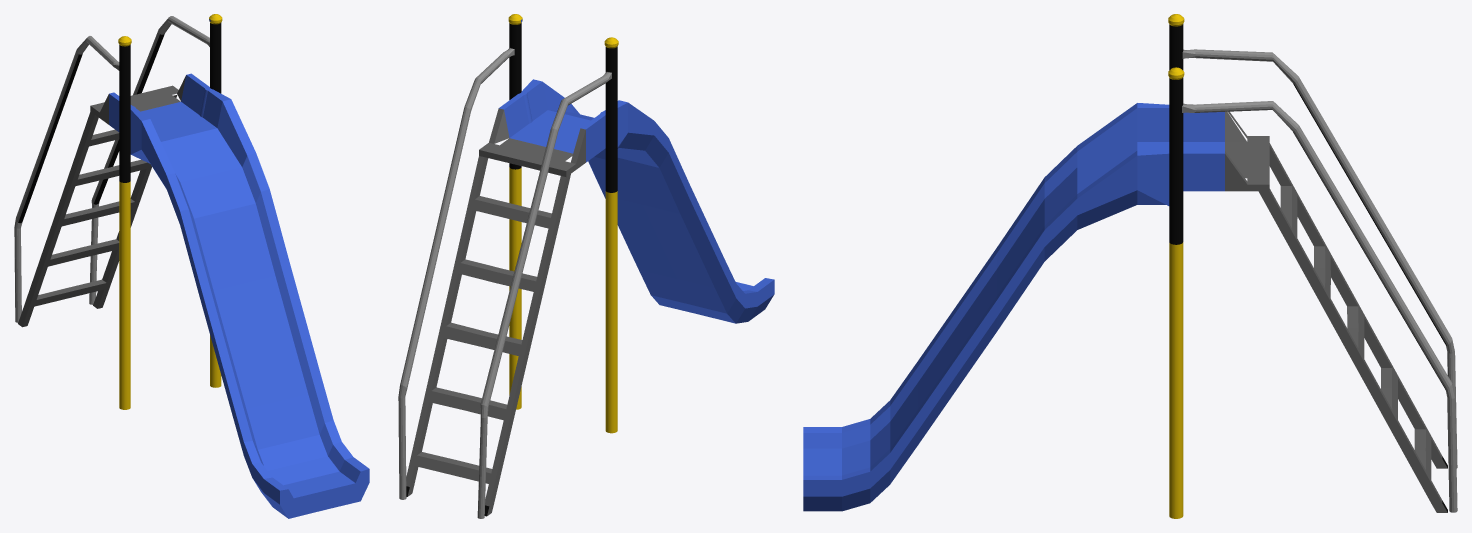
The model's file is prop_slide.glb.
The picture shows the model from 3 angles, left to right: view 1: azimuth 30°, elevation 25°; view 2: azimuth 150°, elevation 25°; view 3: azimuth 270°, elevation 25°; orthographic projection. The views are drawn at different scales.
Visible parts, largest first — view 1: Cylinder; view 2: Cylinder; view 3: Cylinder.
Part boxes in pixels (box(x1,y1,x2,y2)): Cylinder: box(14, 14, 369, 518); Cylinder: box(398, 14, 774, 518); Cylinder: box(803, 14, 1457, 518).
Size of the model in its own units: 0.6556 by 2.28 by 3.01.
1 material, 1 textured.
